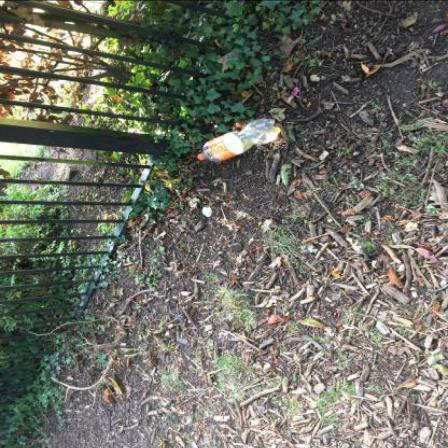Bottle: (198, 120, 282, 163)
Bottle cap: (198, 155, 204, 161)
Plastic bag - wrapper: (293, 88, 300, 99)
